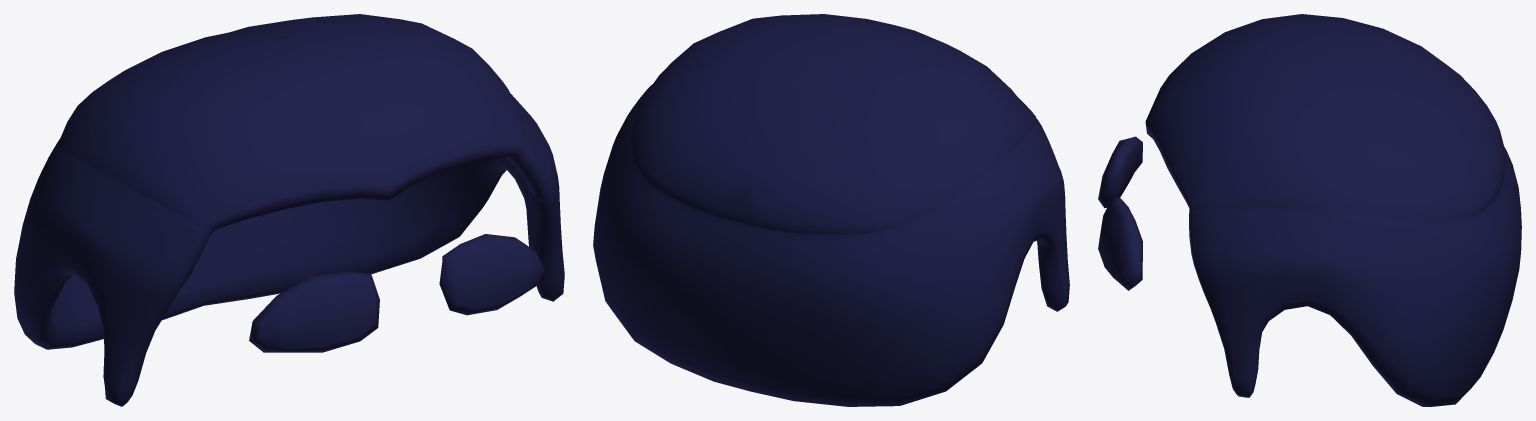
Rendered from sac05.fbx.
3 renders of one model, left to right at view 1: azimuth 30°, elevation 25°; view 2: azimuth 150°, elevation 25°; view 3: azimuth 270°, elevation 25°, orthographic. The views are drawn at different scales.
Parts seen in each view (by area): view 1: sac05; view 2: sac05; view 3: sac05.
Boxes of the visible parts, left/top/right/bottom form: sac05: left=14, top=14, right=564, bottom=406; sac05: left=593, top=14, right=1069, bottom=406; sac05: left=1098, top=14, right=1521, bottom=406.
Size of the model in its own units: 3.61 by 2.47 by 3.22.
